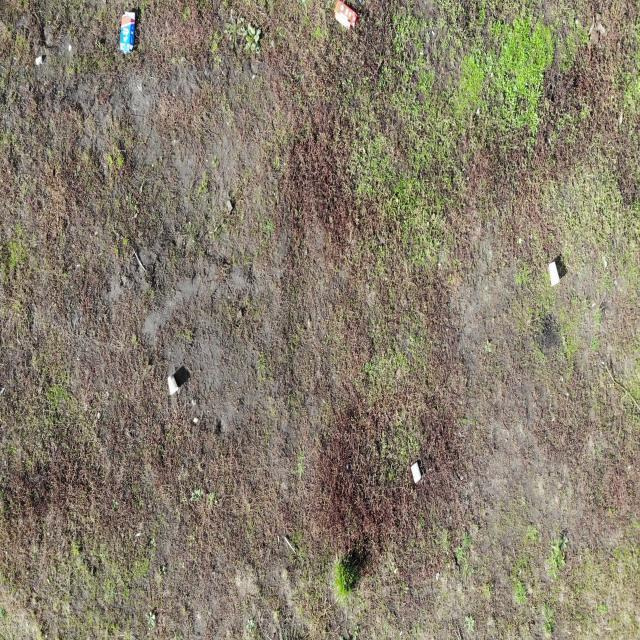rubbish: (331, 0, 360, 32), (118, 10, 136, 56), (548, 261, 562, 289), (410, 460, 423, 485), (166, 374, 180, 397)
